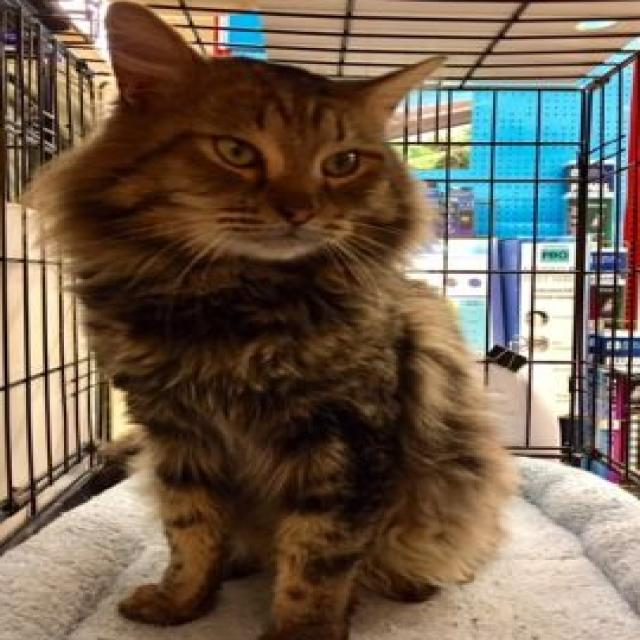Maine Coon: (26, 0, 522, 640)
